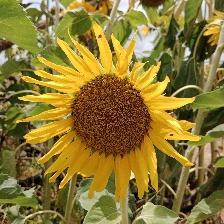sunflower: (18, 21, 205, 201)
